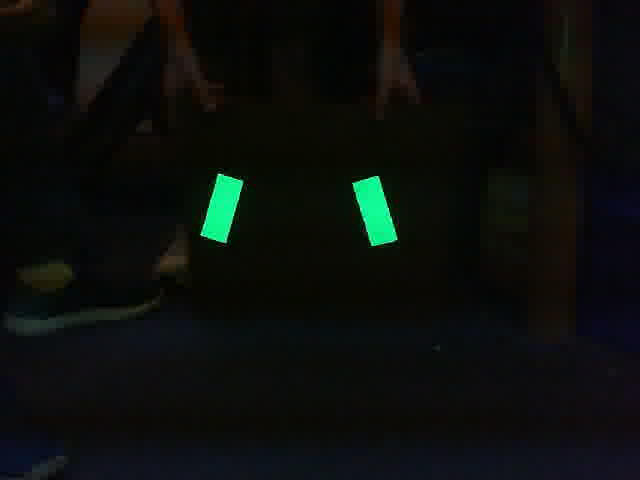target: (199, 175, 400, 247)
